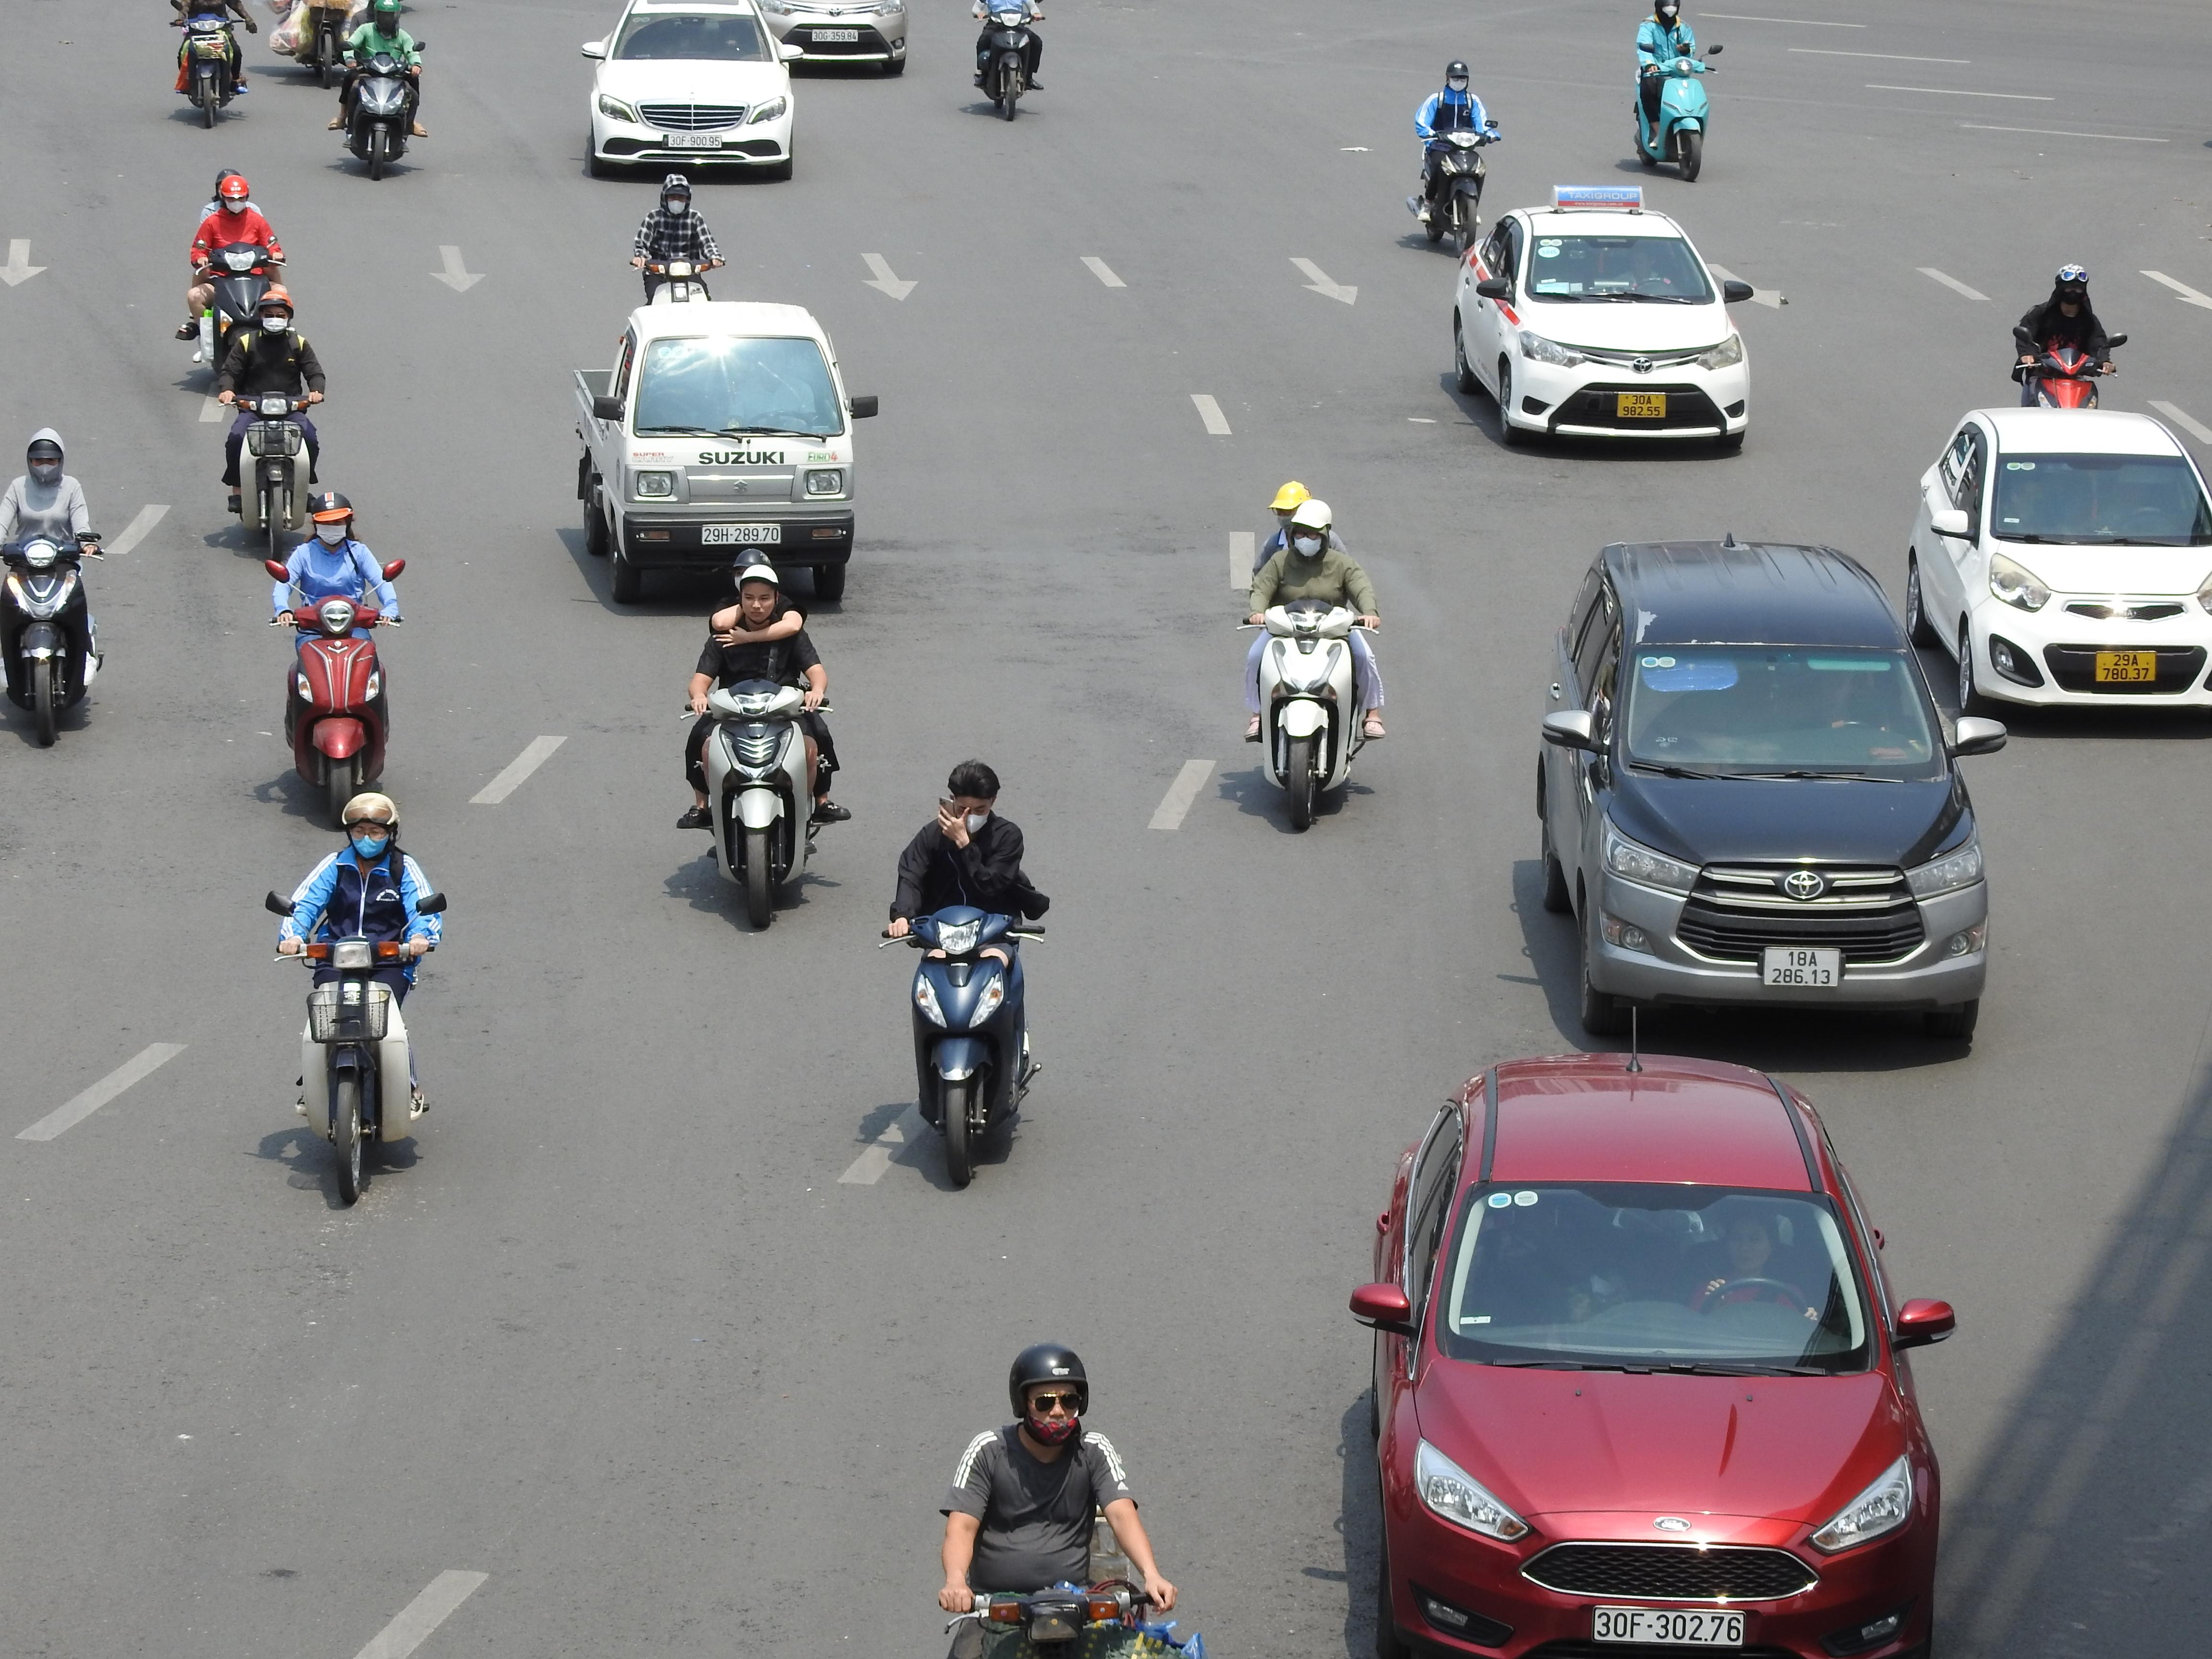BSD: (1592, 1607, 1745, 1647), (700, 525, 782, 545), (669, 134, 721, 148), (812, 30, 859, 42)
BSV: (1761, 946, 1841, 986), (2097, 648, 2156, 683), (1616, 392, 1665, 418)
car: (1343, 1051, 1958, 1659), (1533, 535, 2006, 1046), (1902, 404, 2212, 730), (571, 298, 878, 610), (1449, 188, 1756, 457), (580, 0, 798, 181), (749, 0, 911, 77)
motorbike: (939, 1342, 1198, 1659), (270, 789, 444, 1209), (883, 760, 1049, 1190), (683, 558, 841, 934), (1242, 484, 1383, 833), (272, 486, 401, 828), (0, 427, 106, 749), (218, 286, 326, 556), (183, 169, 289, 378), (1409, 59, 1498, 256), (331, 0, 425, 179), (2010, 263, 2123, 410), (1630, 0, 1719, 185), (632, 171, 723, 307), (171, 0, 251, 127), (972, 0, 1045, 120), (273, 0, 368, 85)
